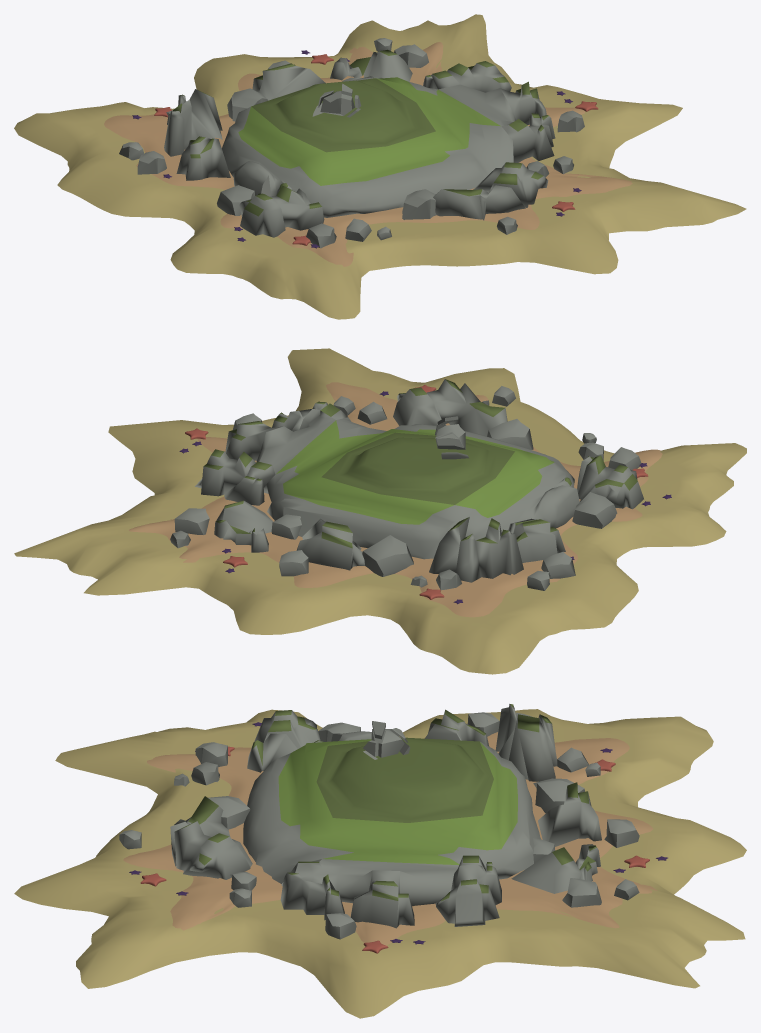
File: island2.0.fbx
3 views of the same model, one above another, from view 1: azimuth 30°, elevation 25°; view 2: azimuth 150°, elevation 25°; view 3: azimuth 270°, elevation 25° (orthographic). The views are drawn at different scales.
Parts seen in each view (by area): view 1: far_sand, island, close_sand, rocks, star, special_rock; view 2: far_sand, island, close_sand, rocks, star, special_rock; view 3: far_sand, island, close_sand, rocks, star, special_rock.
Boxes of the visible parts, <box> form: far_sand: <box>14,14,746,319</box>; island: <box>164,49,555,237</box>; close_sand: <box>104,42,632,266</box>; rocks: <box>119,38,584,248</box>; star: <box>132,50,598,248</box>; special_rock: <box>312,83,361,117</box>; far_sand: <box>14,348,746,674</box>; island: <box>195,379,643,582</box>; close_sand: <box>129,382,662,617</box>; rocks: <box>170,386,641,590</box>; star: <box>179,385,671,604</box>; special_rock: <box>435,416,468,459</box>; far_sand: <box>14,709,746,1018</box>; island: <box>170,704,601,928</box>; close_sand: <box>123,732,657,945</box>; rocks: <box>119,712,639,939</box>; star: <box>129,722,667,953</box>; special_rock: <box>363,721,410,759</box>.
Size of the model in its own units: 762 by 130 by 768.
